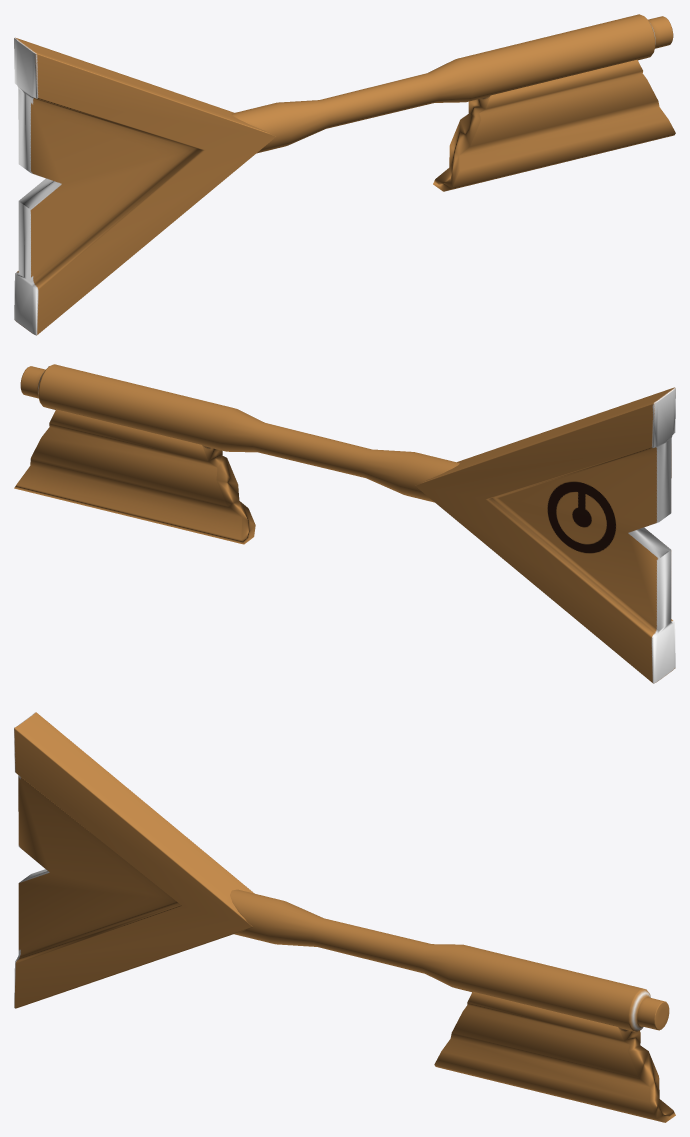
Rendered from key3.fbx.
3 renders of one model, top to bottom at view 1: azimuth 30°, elevation 25°; view 2: azimuth 150°, elevation 25°; view 3: azimuth 330°, elevation 25°, orthographic.
Parts seen in each view (by area): view 1: RetopoGroup1, RetopoGroup2, Cylinder_Chamfer; view 2: RetopoGroup1, RetopoGroup2, Cylinder_Chamfer; view 3: RetopoGroup1, RetopoGroup2, Cylinder_Chamfer.
Part boxes in pixels (<box>): RetopoGroup1: <box>14,37,276,335</box>; RetopoGroup2: <box>433,59,675,191</box>; Cylinder_Chamfer: <box>231,14,673,153</box>; RetopoGroup1: <box>415,387,675,683</box>; RetopoGroup2: <box>14,409,255,544</box>; Cylinder_Chamfer: <box>20,364,459,502</box>; RetopoGroup1: <box>14,712,254,1008</box>; RetopoGroup2: <box>434,991,675,1122</box>; Cylinder_Chamfer: <box>230,889,669,1031</box>.
Size of the model in its own units: 663 by 277 by 40.54.
